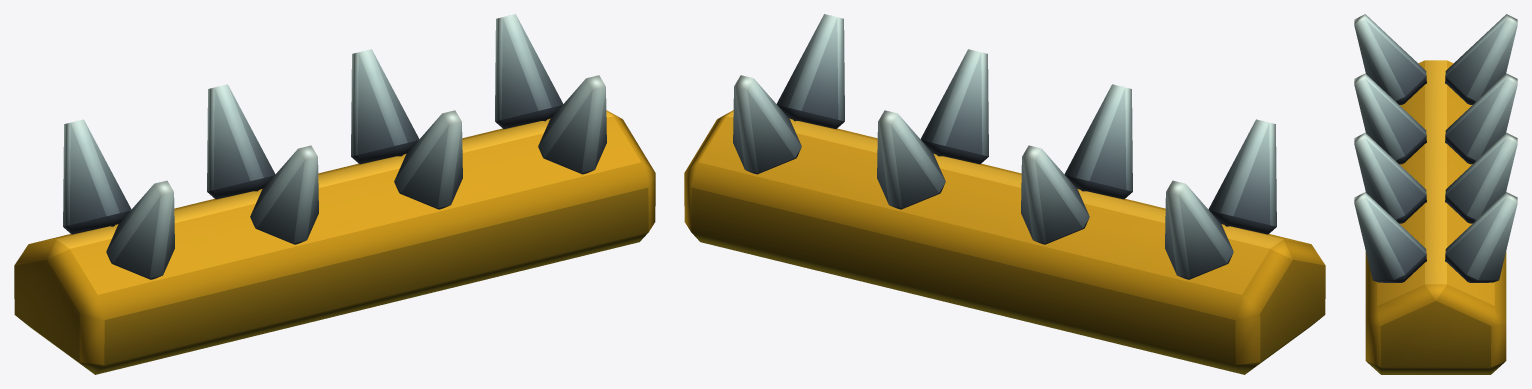
Rendered from road_spikes.fbx.
3 views of the same model, side by side, from view 1: azimuth 30°, elevation 25°; view 2: azimuth 150°, elevation 25°; view 3: azimuth 270°, elevation 25° (orthographic). The views are drawn at different scales.
Visible parts, largest first — view 1: road_spikes; view 2: road_spikes; view 3: road_spikes.
Part boxes in pixels (bbox=[...]): road_spikes: bbox=[14, 14, 655, 374]; road_spikes: bbox=[684, 14, 1325, 374]; road_spikes: bbox=[1354, 14, 1517, 374].
Size of the model in its own units: 200 by 61.71 by 58.26.
